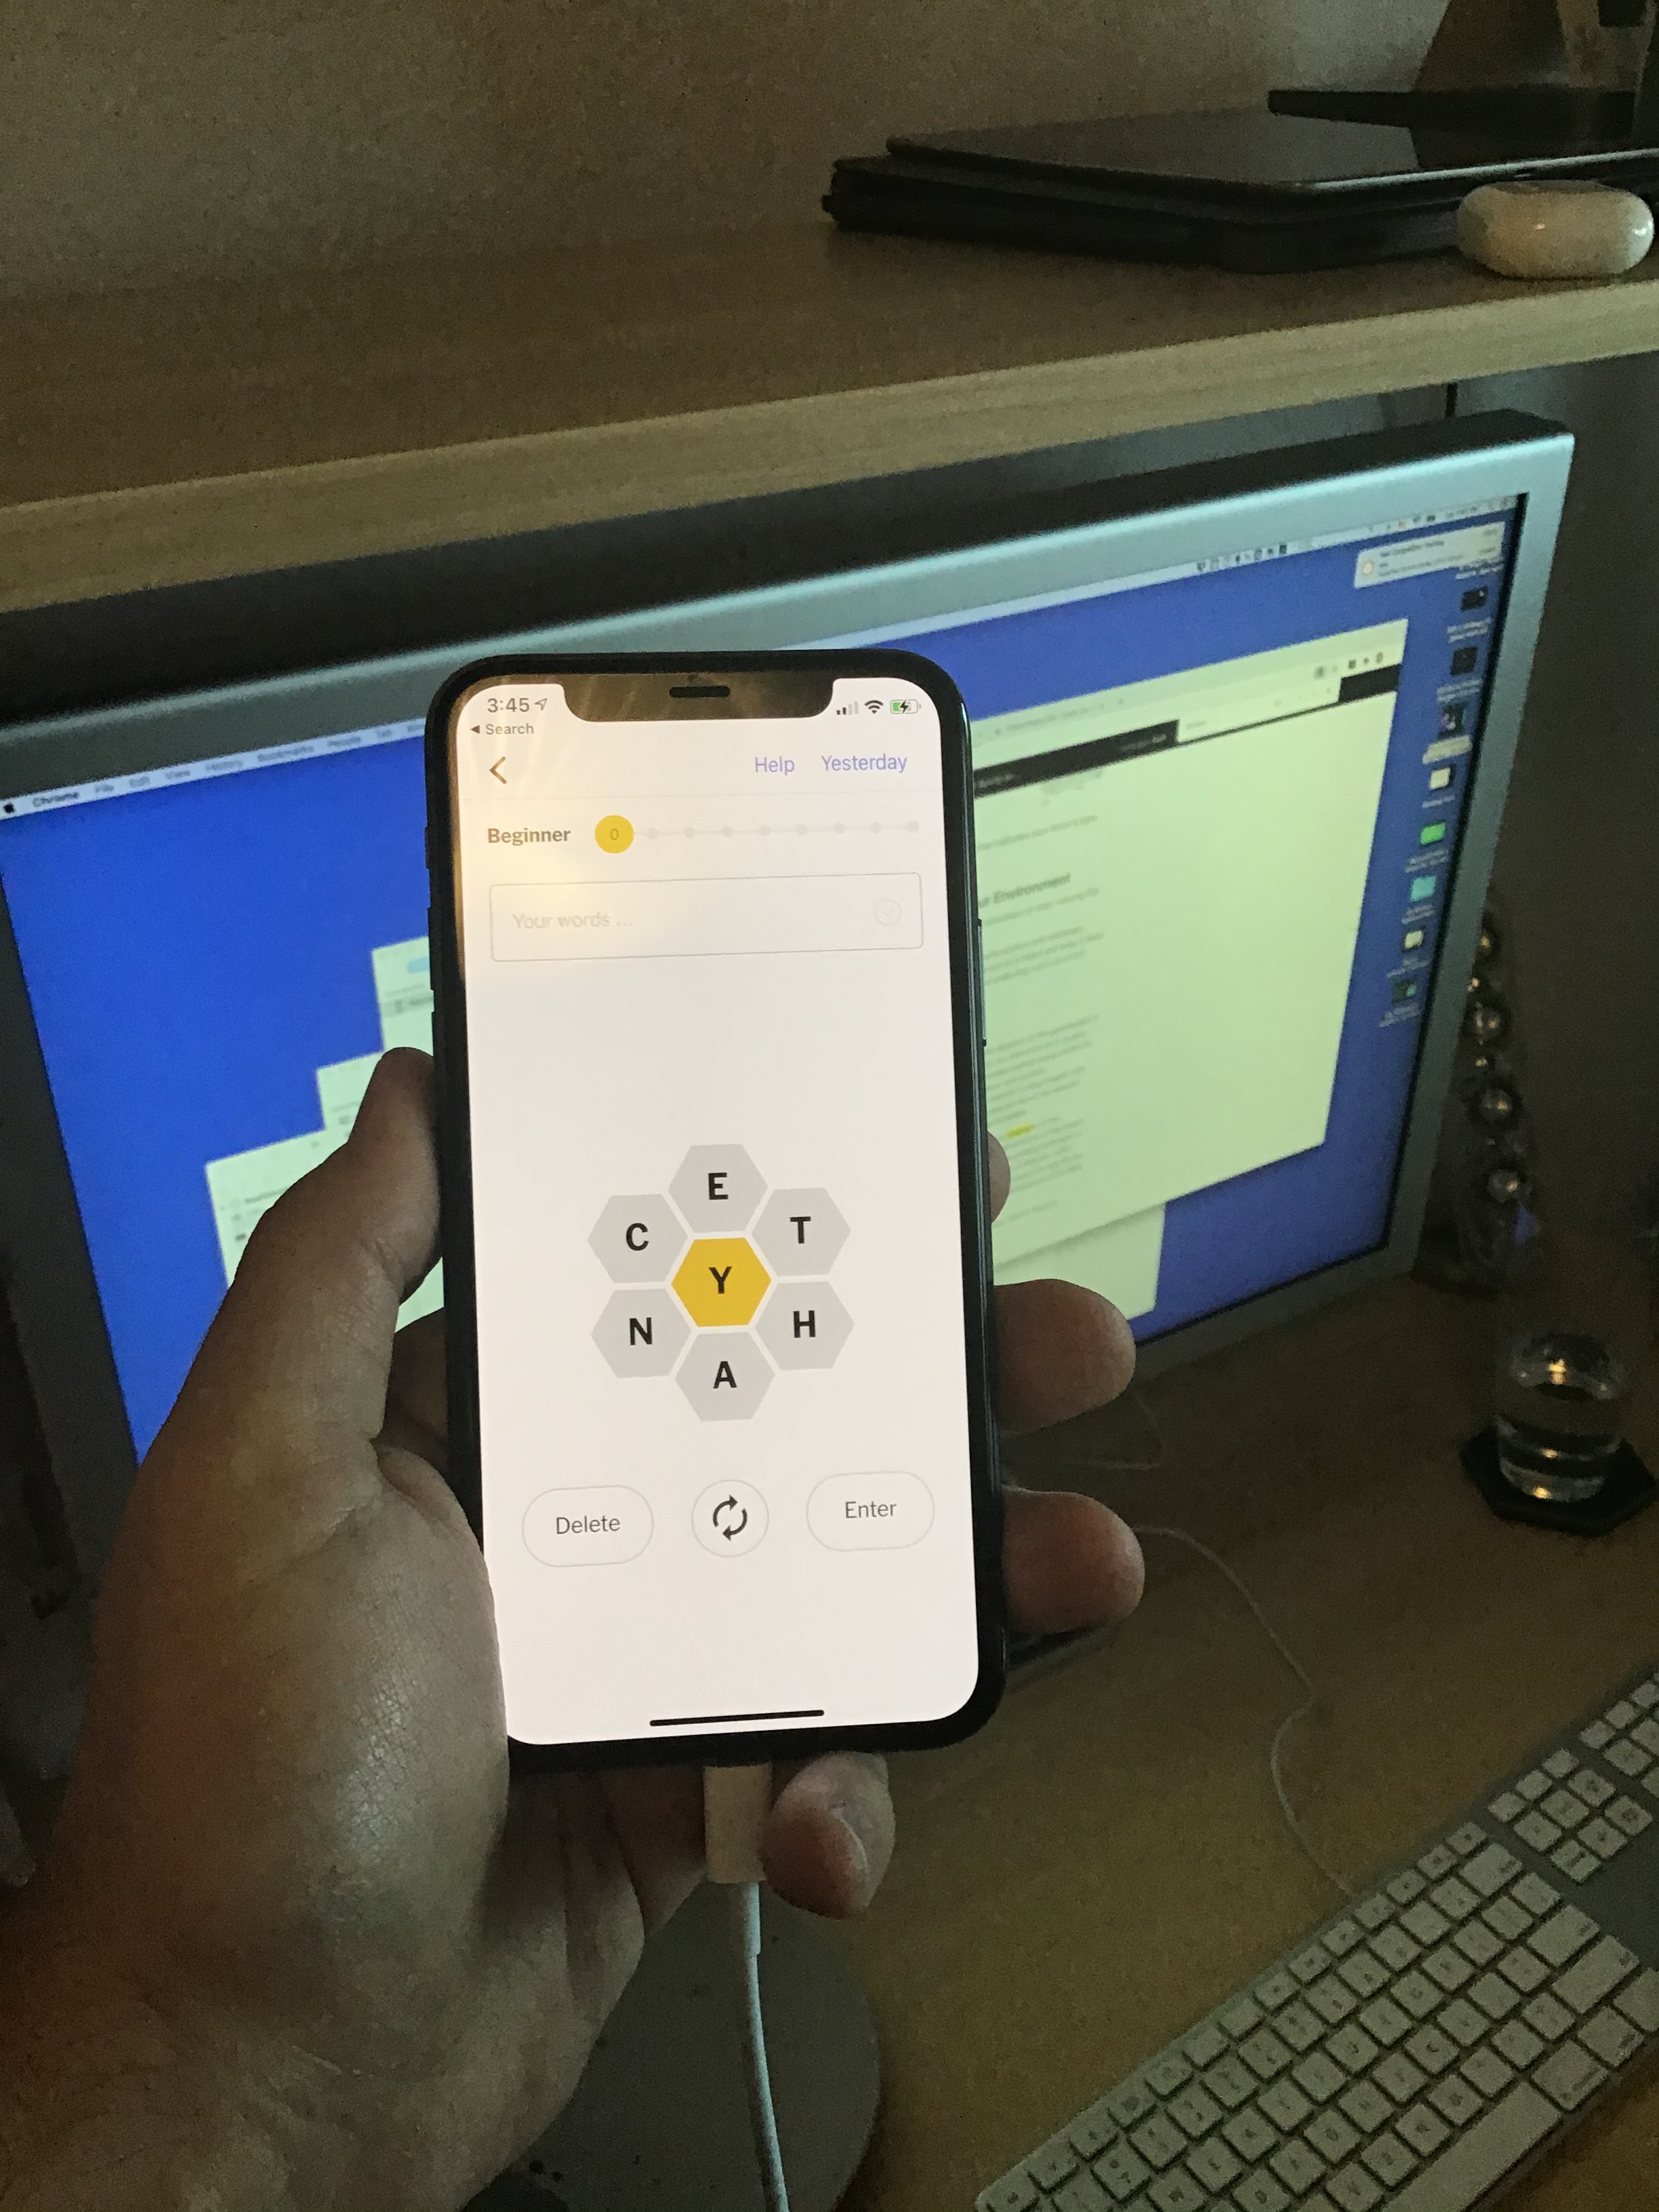Board: (552, 1116, 882, 1447)
